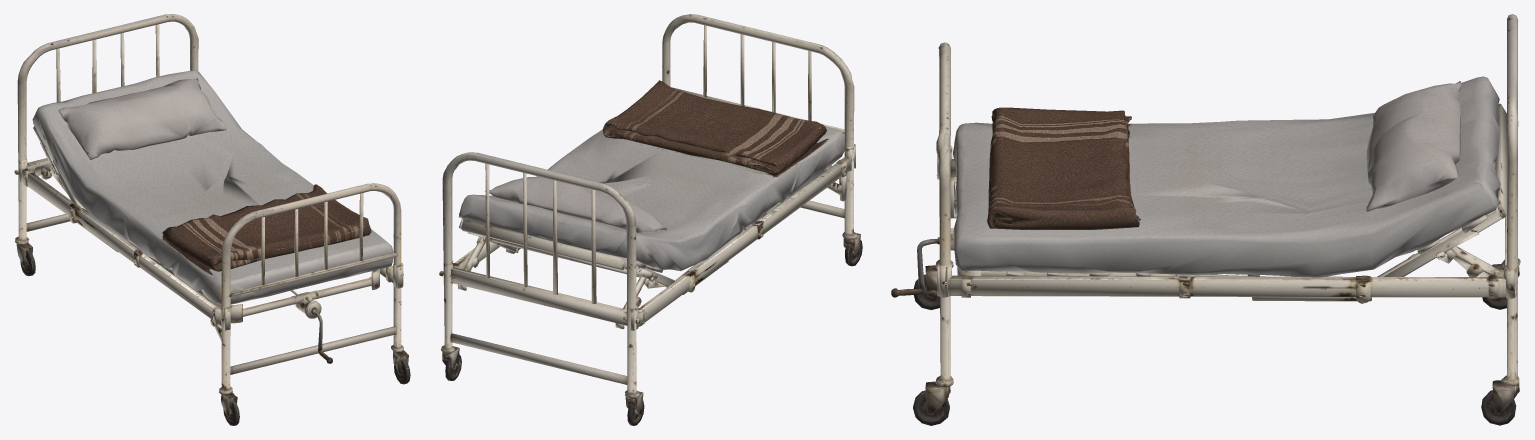
Rendered from epi_bed.glb.
3 views of the same model, side by side, from view 1: azimuth 30°, elevation 25°; view 2: azimuth 150°, elevation 25°; view 3: azimuth 270°, elevation 25° (orthographic). The views are drawn at different scales.
Visible parts, largest first — view 1: Mesh_0; view 2: Mesh_0; view 3: Mesh_0.
Part boxes in pixels (x1,y1,x2,y2): Mesh_0: (14,14,410,425); Mesh_0: (439,14,862,425); Mesh_0: (891,14,1520,425).
Bounding box in the file's own units: 0.9709 × 1.11 × 2.05.
1 material, 1 textured.
